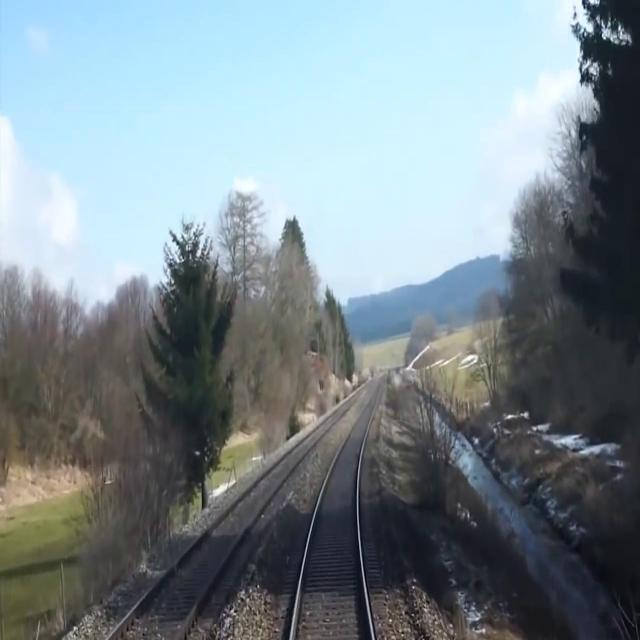rail-track: (113, 415, 335, 639), (293, 391, 377, 639)
